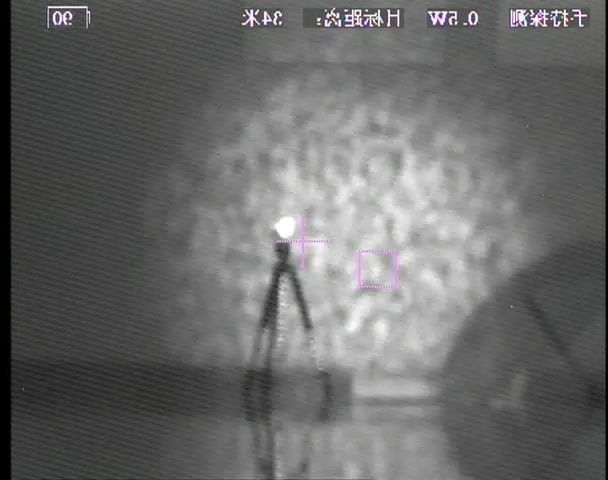my: (273, 215, 297, 240)
